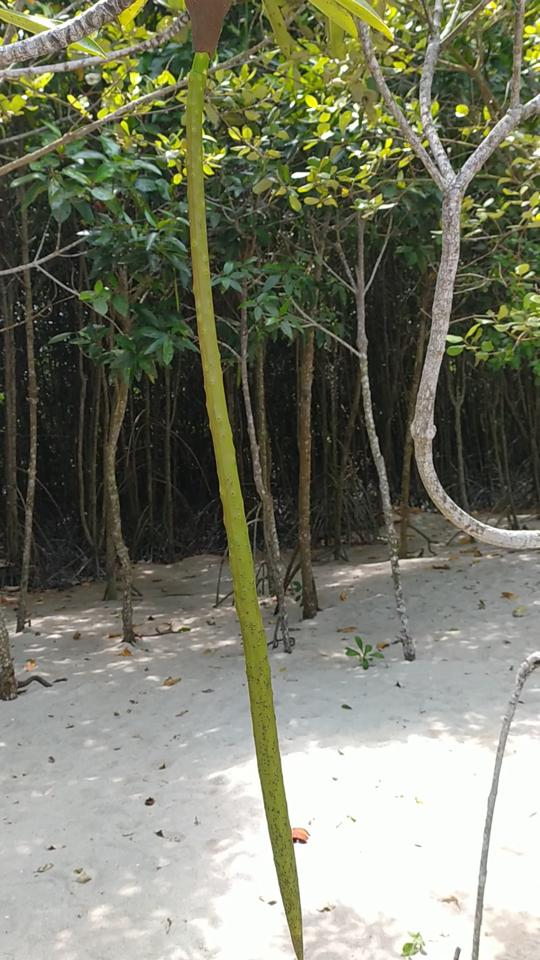mentah: (150, 1, 322, 953)
